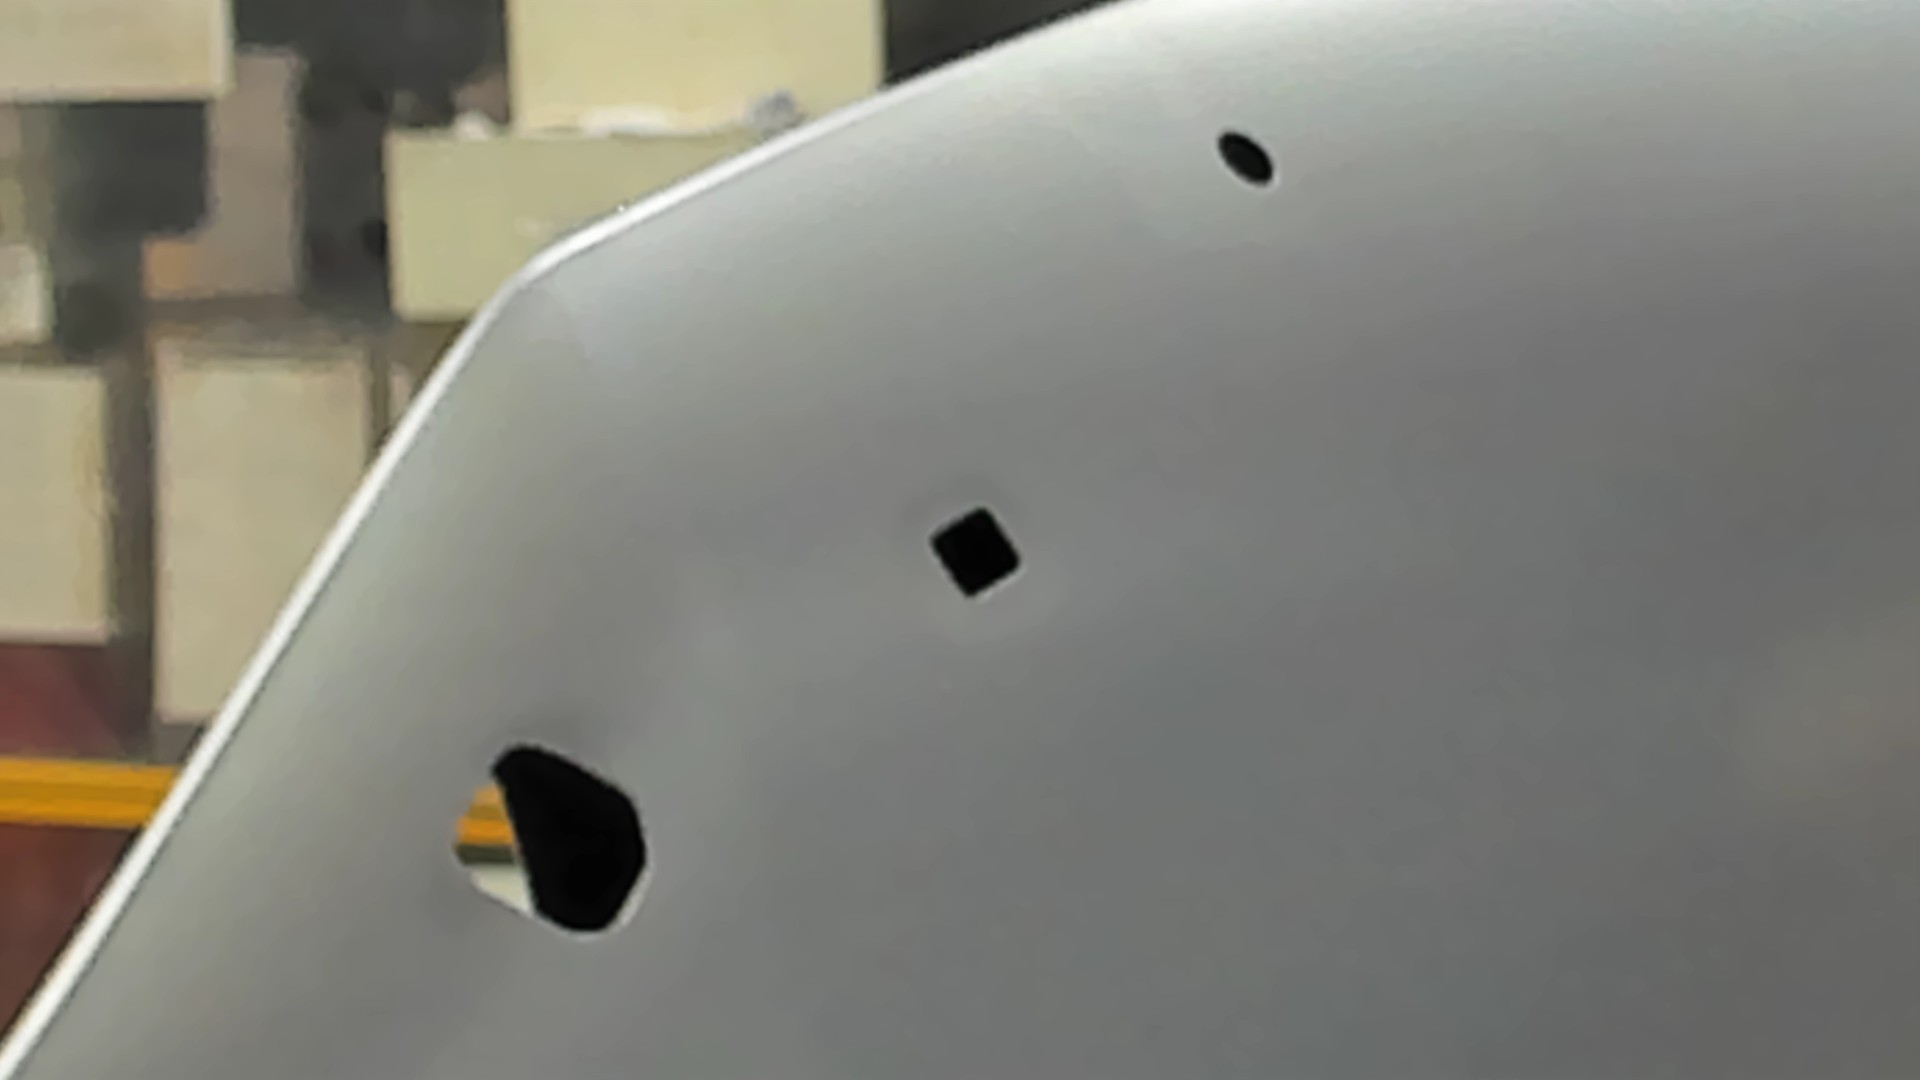chico: (1215, 127, 1280, 190)
grande: (447, 740, 655, 944)
mediano: (928, 504, 1025, 605)
